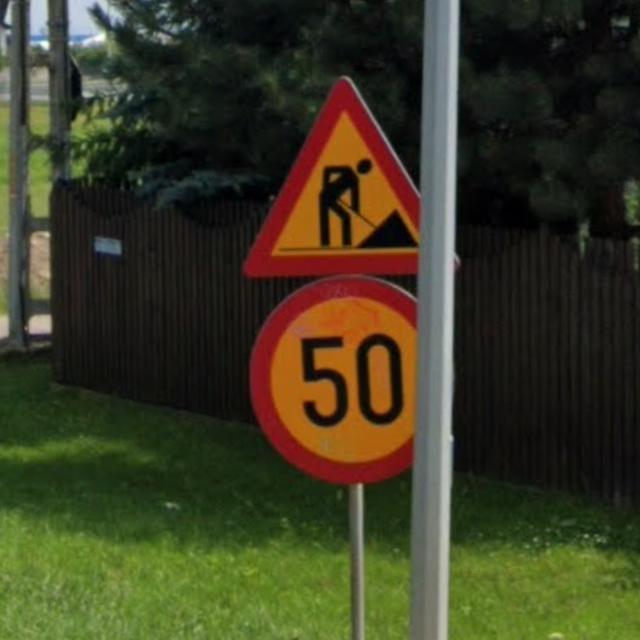forb_speed_over_50: (244, 280, 422, 485)
